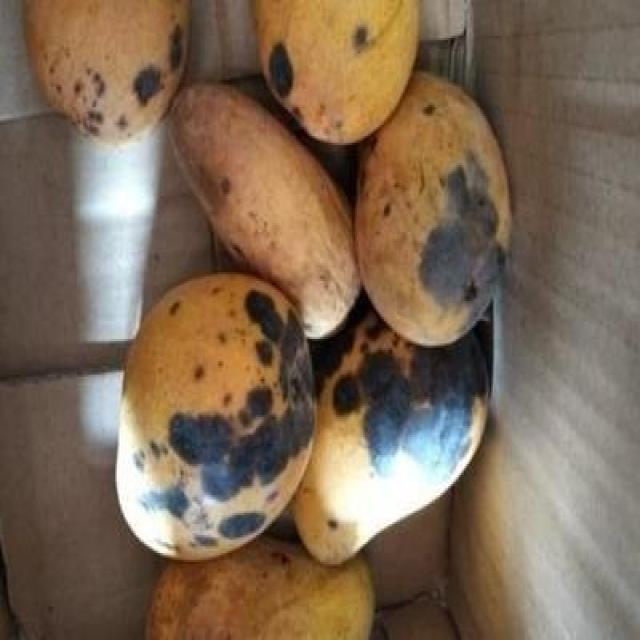Wet Waste: (22, 2, 518, 638)
